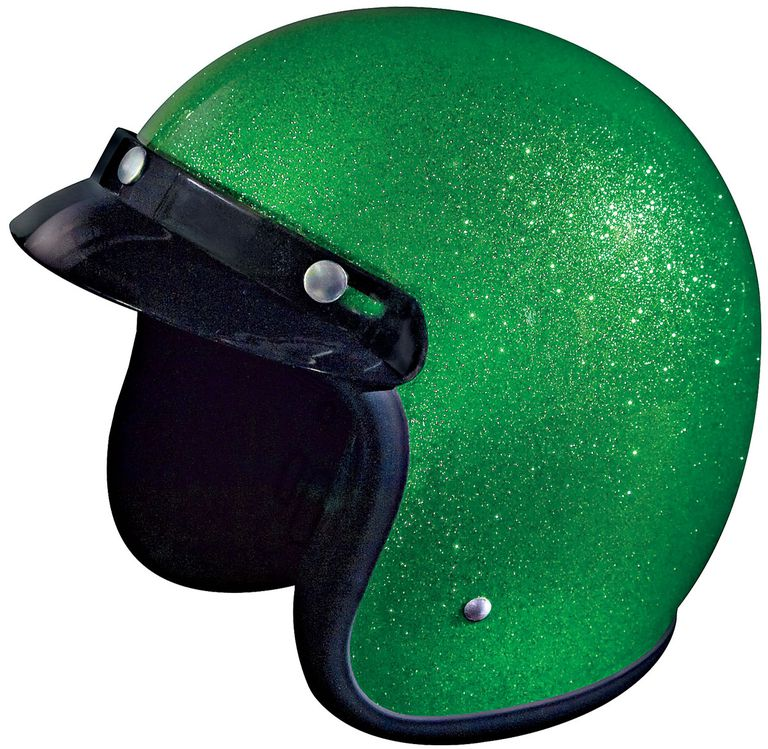with_helmet: (8, 3, 765, 749)
